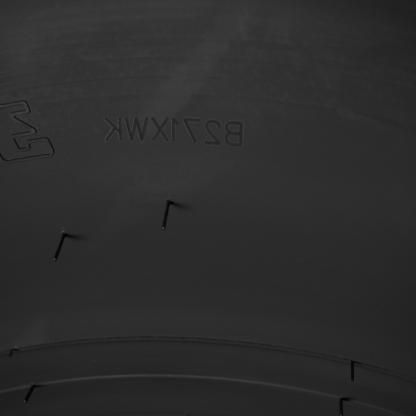ocr: (101, 114, 245, 150)
